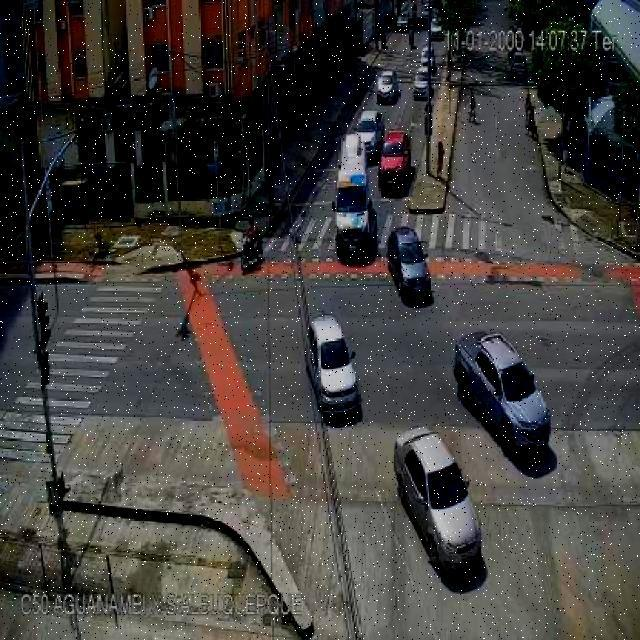Car: (393, 426, 483, 586), (454, 331, 554, 468), (304, 314, 360, 427), (387, 227, 442, 308), (378, 131, 413, 194), (354, 110, 384, 164), (375, 70, 398, 104), (412, 70, 433, 100), (509, 52, 529, 82)
Van: (333, 162, 378, 260)
